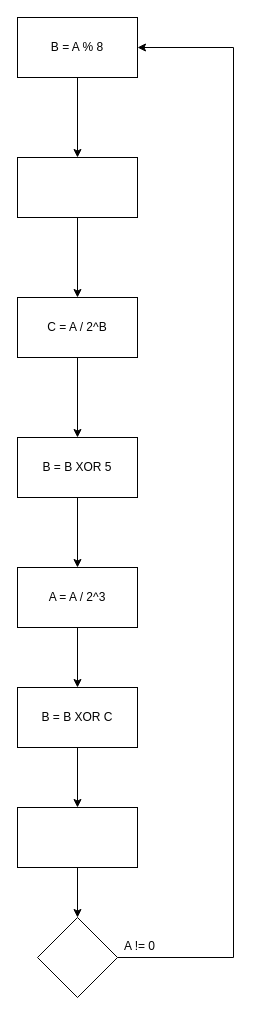
Some shapes in this 259 by 1015 pixel diagram are drawn without their labels. Each missing label, with the box of its shape:
B = B XOR 3: (16, 156, 138, 218)
OUT B % 8: (16, 806, 138, 868)
